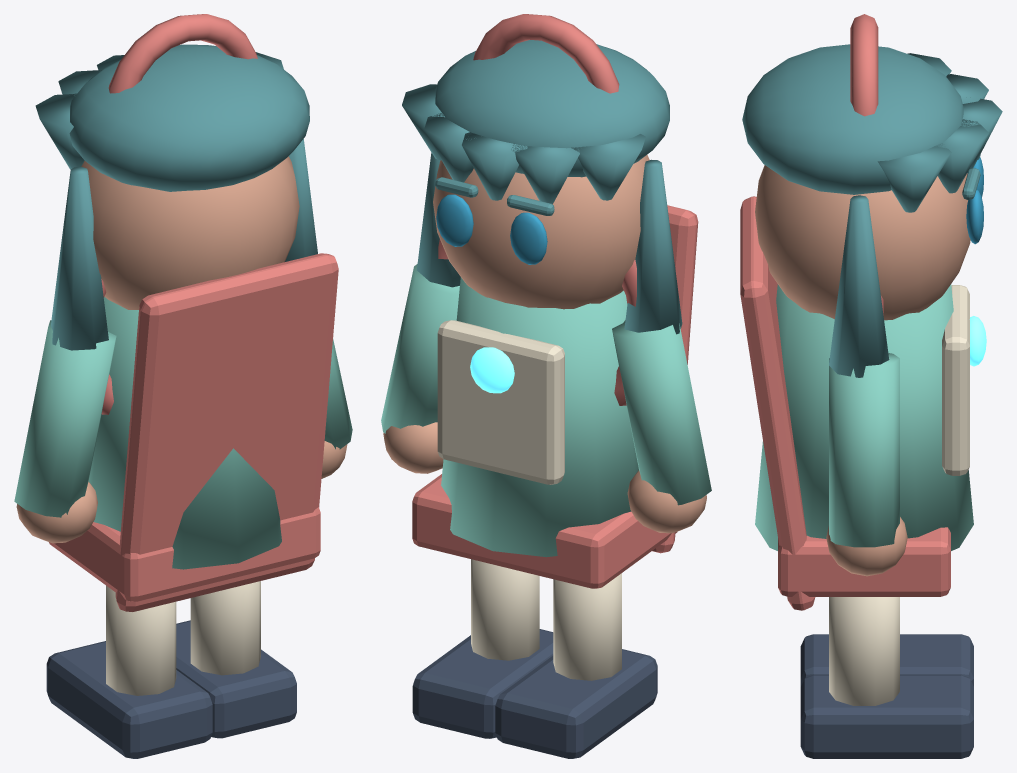
File: hero_companion.glb
The picture shows the model from 3 angles, left to right: view 1: azimuth 30°, elevation 25°; view 2: azimuth 150°, elevation 25°; view 3: azimuth 270°, elevation 25°; orthographic projection. The views are drawn at different scales.
Parts seen in each view (by area): view 1: Companion_Cape, Companion_HairCap, Companion_Head, Companion_Torso, Companion_Sleeve, Companion_Boot, Companion_Waist, Companion_SideLock_-0.48, Companion_Boot.001, Companion_Leg, Companion_Leg.001, Companion_HairRibbon (+6 smaller); view 2: Companion_Torso, Companion_HairCap, Companion_Head, Companion_ChestPanel, Companion_Sleeve, Companion_Boot, Companion_Waist, Companion_Boot.001, Companion_Sleeve.001, Companion_Leg, Companion_Leg.001, Companion_SideLock_-0.48 (+16 smaller); view 3: Companion_Torso, Companion_HairCap, Companion_Head, Companion_Sleeve.001, Companion_Boot.001, Companion_Cape, Companion_Waist, Companion_Leg.001, Companion_SideLock_0.48, Companion_ChestPanel, Companion_Boot, Companion_HairRibbon (+7 smaller).
Boxes of the visible parts, bbox=[...] form: Companion_Cape: bbox=[115, 253, 338, 611]; Companion_HairCap: bbox=[69, 44, 309, 191]; Companion_Head: bbox=[81, 156, 299, 309]; Companion_Torso: bbox=[88, 297, 281, 569]; Companion_Sleeve: bbox=[14, 320, 116, 517]; Companion_Boot: bbox=[46, 641, 212, 758]; Companion_Waist: bbox=[49, 507, 320, 601]; Companion_SideLock_-0.48: bbox=[51, 167, 108, 350]; Companion_Boot.001: bbox=[176, 620, 296, 738]; Companion_Leg: bbox=[106, 585, 176, 695]; Companion_Leg.001: bbox=[190, 581, 260, 675]; Companion_HairRibbon: bbox=[108, 14, 257, 93]; Companion_Torso: bbox=[441, 277, 638, 557]; Companion_HairCap: bbox=[435, 40, 669, 177]; Companion_Head: bbox=[433, 154, 649, 309]; Companion_ChestPanel: bbox=[437, 320, 564, 484]; Companion_Sleeve: bbox=[612, 320, 711, 505]; Companion_Boot: bbox=[495, 649, 657, 758]; Companion_Waist: bbox=[412, 474, 677, 588]; Companion_Boot.001: bbox=[412, 629, 553, 738]; Companion_Sleeve.001: bbox=[381, 264, 459, 433]; Companion_Leg: bbox=[553, 573, 621, 680]; Companion_Leg.001: bbox=[471, 559, 539, 660]; Companion_SideLock_-0.48: bbox=[624, 159, 682, 334]; Companion_Torso: bbox=[755, 284, 973, 550]; Companion_HairCap: bbox=[742, 44, 963, 194]; Companion_Head: bbox=[755, 165, 970, 320]; Companion_Sleeve.001: bbox=[829, 353, 899, 547]; Companion_Boot.001: bbox=[800, 675, 973, 758]; Companion_Cape: bbox=[740, 196, 815, 610]; Companion_Waist: bbox=[778, 527, 950, 596]; Companion_Leg.001: bbox=[829, 597, 899, 705]; Companion_SideLock_0.48: bbox=[829, 195, 889, 377]; Companion_ChestPanel: bbox=[942, 285, 969, 475]; Companion_Boot: bbox=[800, 634, 973, 686]; Companion_HairRibbon: bbox=[850, 14, 878, 116].
Bounding box in the file's own units: 1.47 × 3.04 × 1.03.
